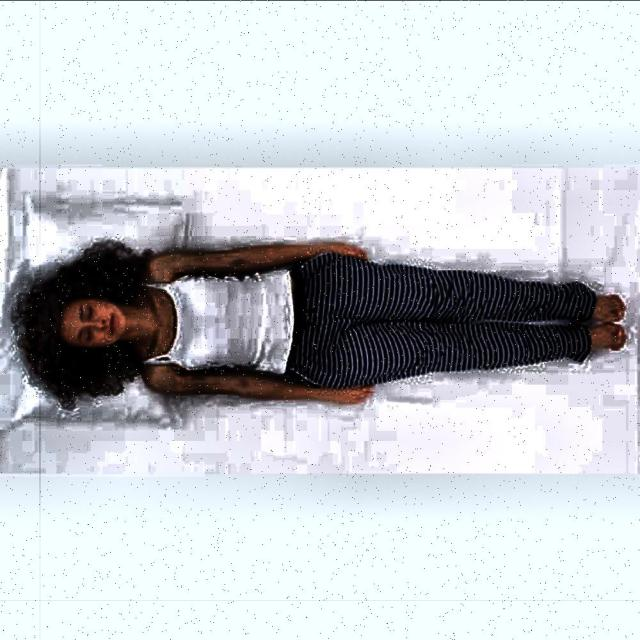Supine: (5, 239, 628, 409)
